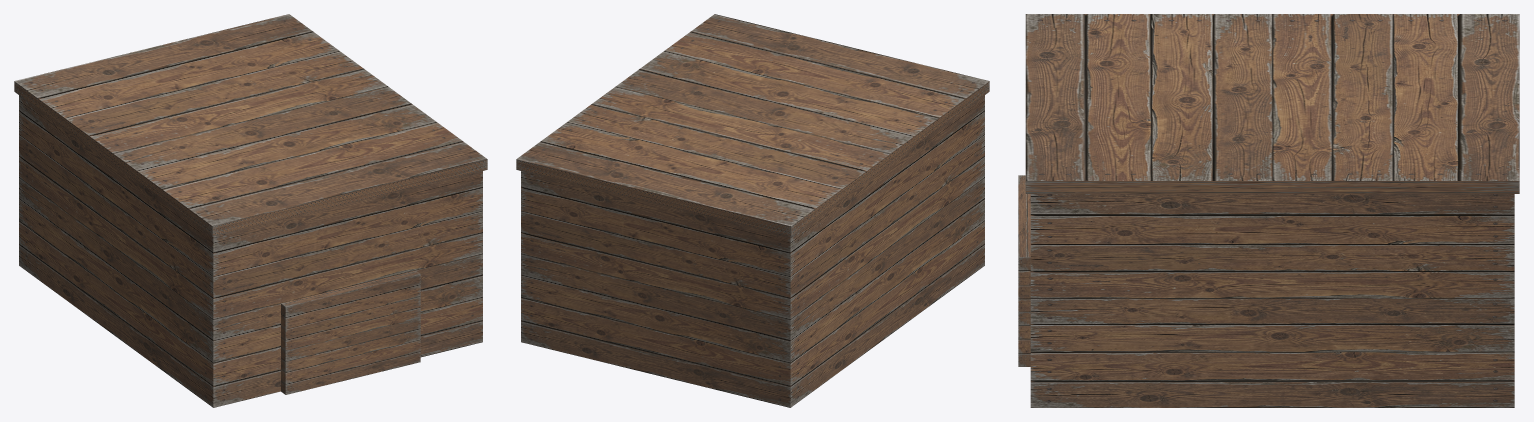
File: shipyard.obj
3 views of the same model, side by side, from view 1: azimuth 30°, elevation 25°; view 2: azimuth 150°, elevation 25°; view 3: azimuth 270°, elevation 25° (orthographic). The views are drawn at different scales.
Visible parts, largest first — view 1: building; view 2: building; view 3: building.
Part boxes in pixels (x1,y1,x2,y2): building: (14, 14, 487, 407); building: (516, 14, 989, 407); building: (1018, 14, 1519, 407).
Size of the model in its own units: 4.08 by 2.61 by 5.17.
